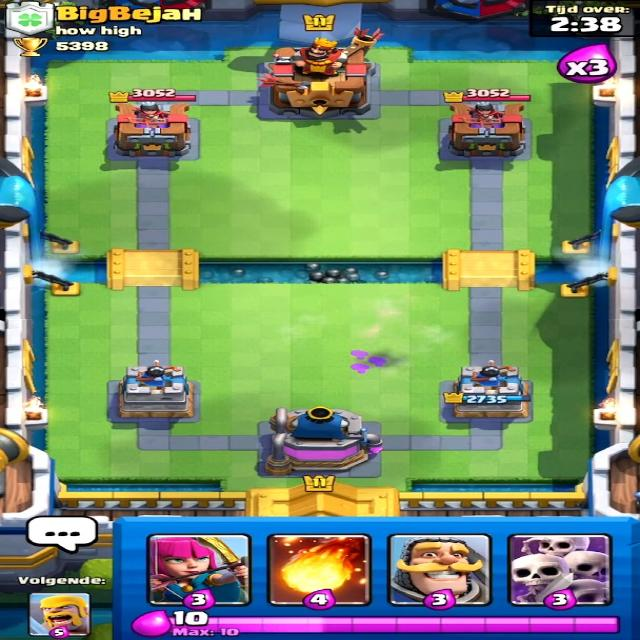Fireball_Card: (271, 532, 372, 607)
